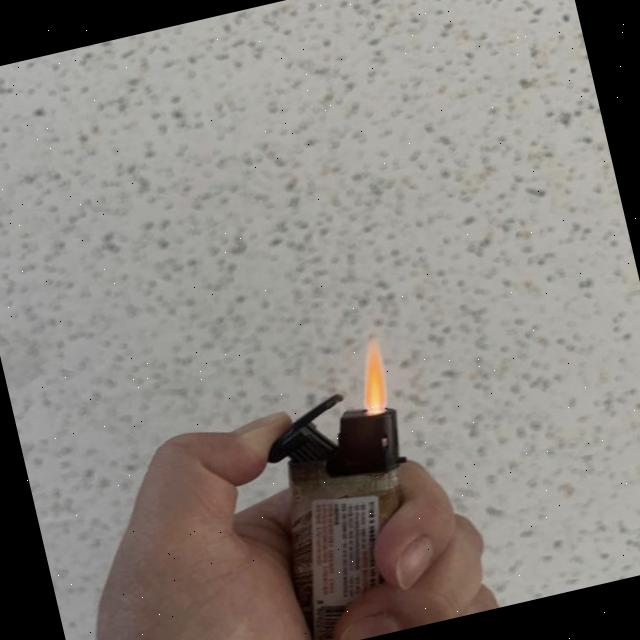fire: (350, 338, 394, 410)
